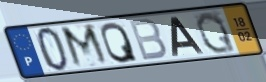0: (35, 26, 71, 73)
A: (170, 16, 207, 58)
B: (127, 18, 169, 63)
M: (58, 22, 113, 70)
Q: (194, 10, 238, 56), (99, 20, 140, 65)
